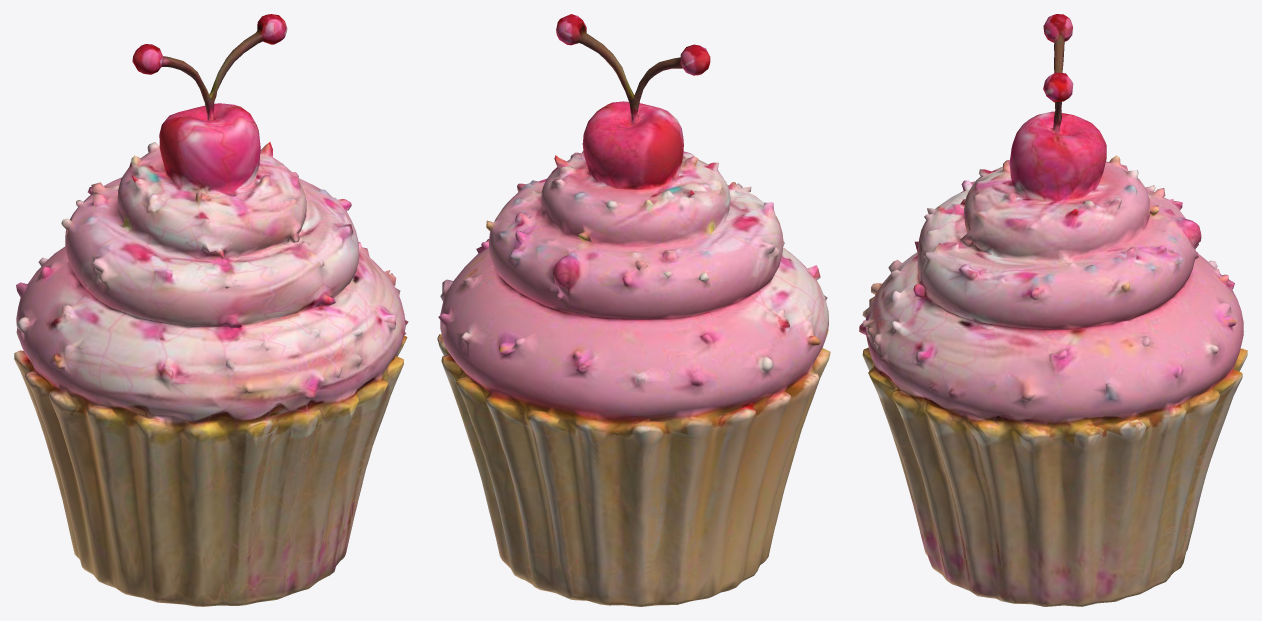
3 renders of one model, left to right at view 1: azimuth 30°, elevation 25°; view 2: azimuth 150°, elevation 25°; view 3: azimuth 270°, elevation 25°, orthographic. The views are drawn at different scales.
Size of the model in its own units: 1.36 by 2 by 1.37.
1 material, 1 textured.
